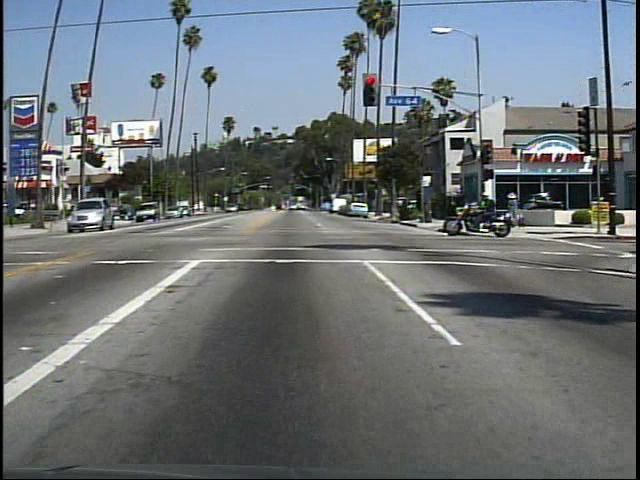person: (471, 190, 501, 234), (502, 187, 526, 231)
